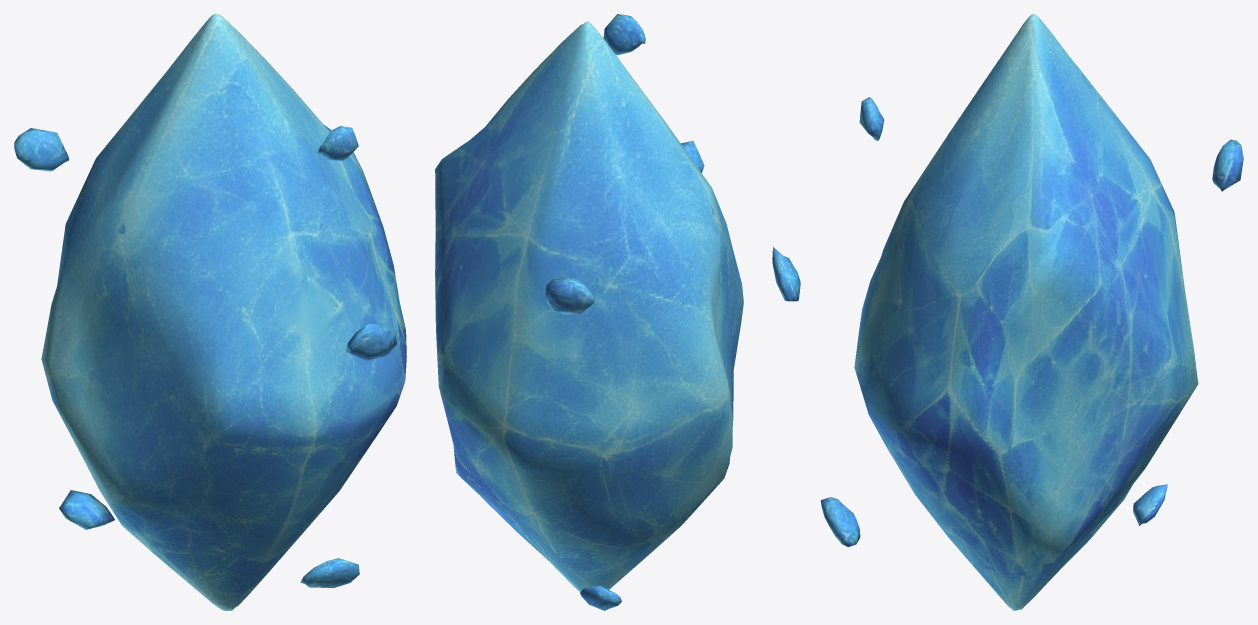
The model's file is blue_crystal.glb.
3 views of the same model, side by side, from view 1: azimuth 30°, elevation 25°; view 2: azimuth 150°, elevation 25°; view 3: azimuth 270°, elevation 25° (orthographic).
Parts seen in each view (by area): view 1: tripo_node_d32c1977-5202-403d-ae5f-472fb4c2537b; view 2: tripo_node_d32c1977-5202-403d-ae5f-472fb4c2537b; view 3: tripo_node_d32c1977-5202-403d-ae5f-472fb4c2537b.
Part boxes in pixels (x1=…): tripo_node_d32c1977-5202-403d-ae5f-472fb4c2537b: x1=14, y1=14, x2=406, y2=610; tripo_node_d32c1977-5202-403d-ae5f-472fb4c2537b: x1=435, y1=14, x2=743, y2=610; tripo_node_d32c1977-5202-403d-ae5f-472fb4c2537b: x1=772, y1=14, x2=1243, y2=610.
Bounding box in the file's own units: 0.5419 × 0.9774 × 0.7035.
Materials: 1 (1 with a texture image).
